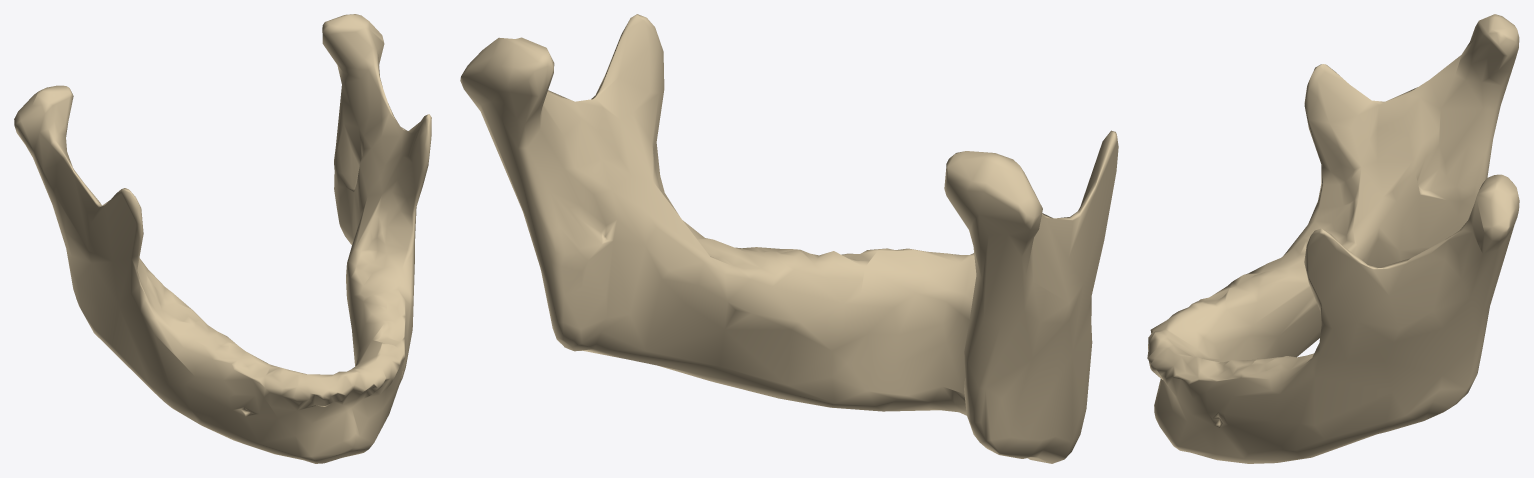
The model's file is mandible.glb.
3 views of the same model, side by side, from view 1: azimuth 30°, elevation 25°; view 2: azimuth 150°, elevation 25°; view 3: azimuth 270°, elevation 25° (orthographic). The views are drawn at different scales.
Parts seen in each view (by area): view 1: mandible; view 2: mandible; view 3: mandible.
Boxes of the visible parts, box(x1,y1,x2,y2) form: mandible: box(14, 14, 431, 463); mandible: box(460, 14, 1118, 463); mandible: box(1147, 14, 1519, 463).
Size of the model in its own units: 0.2508 by 0.1996 by 0.1983.
